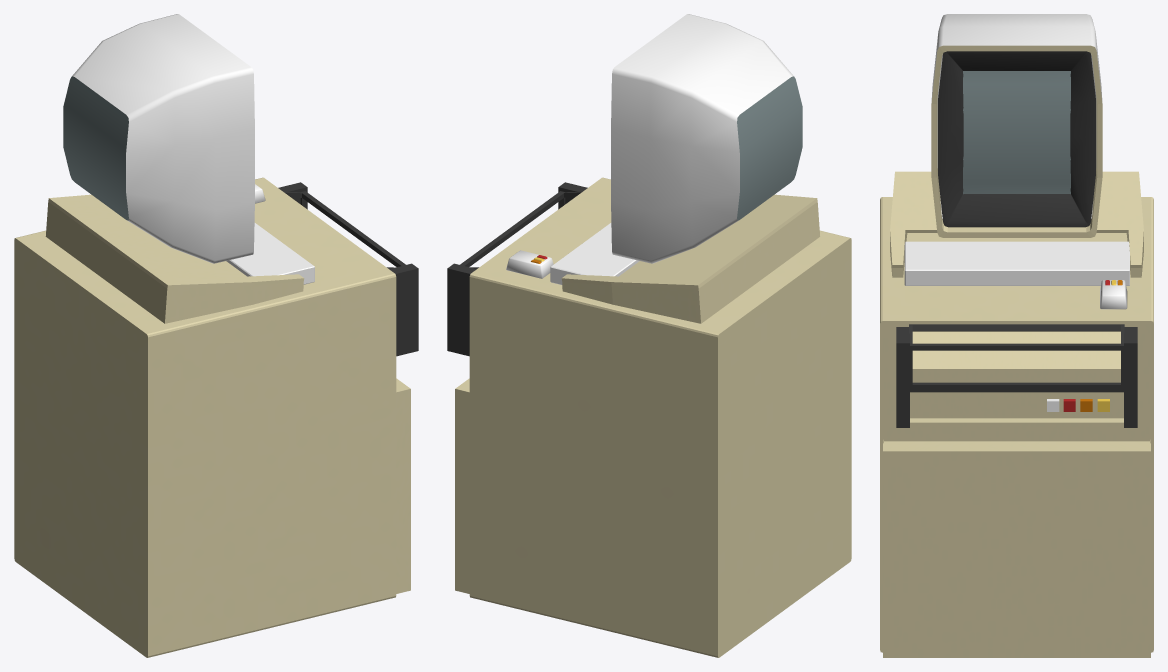
The model's file is XeroxAlto_Set.fbx.
The picture shows the model from 3 angles, left to right: view 1: azimuth 30°, elevation 25°; view 2: azimuth 150°, elevation 25°; view 3: azimuth 270°, elevation 25°; orthographic projection. The views are drawn at different scales.
Parts seen in each view (by area): view 1: XeroxAlto_Base, XeroxAlto_Screen; view 2: XeroxAlto_Base, XeroxAlto_Screen, XeroxAlto_Mouse; view 3: XeroxAlto_Base, XeroxAlto_Screen, XeroxAlto_Mouse.
Part boxes in pixels (x1,y1,x2,y2): XeroxAlto_Base: [14, 177, 418, 657]; XeroxAlto_Screen: [63, 14, 254, 263]; XeroxAlto_Base: [447, 177, 851, 657]; XeroxAlto_Screen: [611, 14, 802, 263]; XeroxAlto_Mouse: [506, 250, 553, 278]; XeroxAlto_Base: [880, 171, 1153, 657]; XeroxAlto_Screen: [931, 14, 1102, 237]; XeroxAlto_Mouse: [1100, 280, 1127, 309].
Size of the model in its own units: 10.31 by 18.98 by 8.56.
